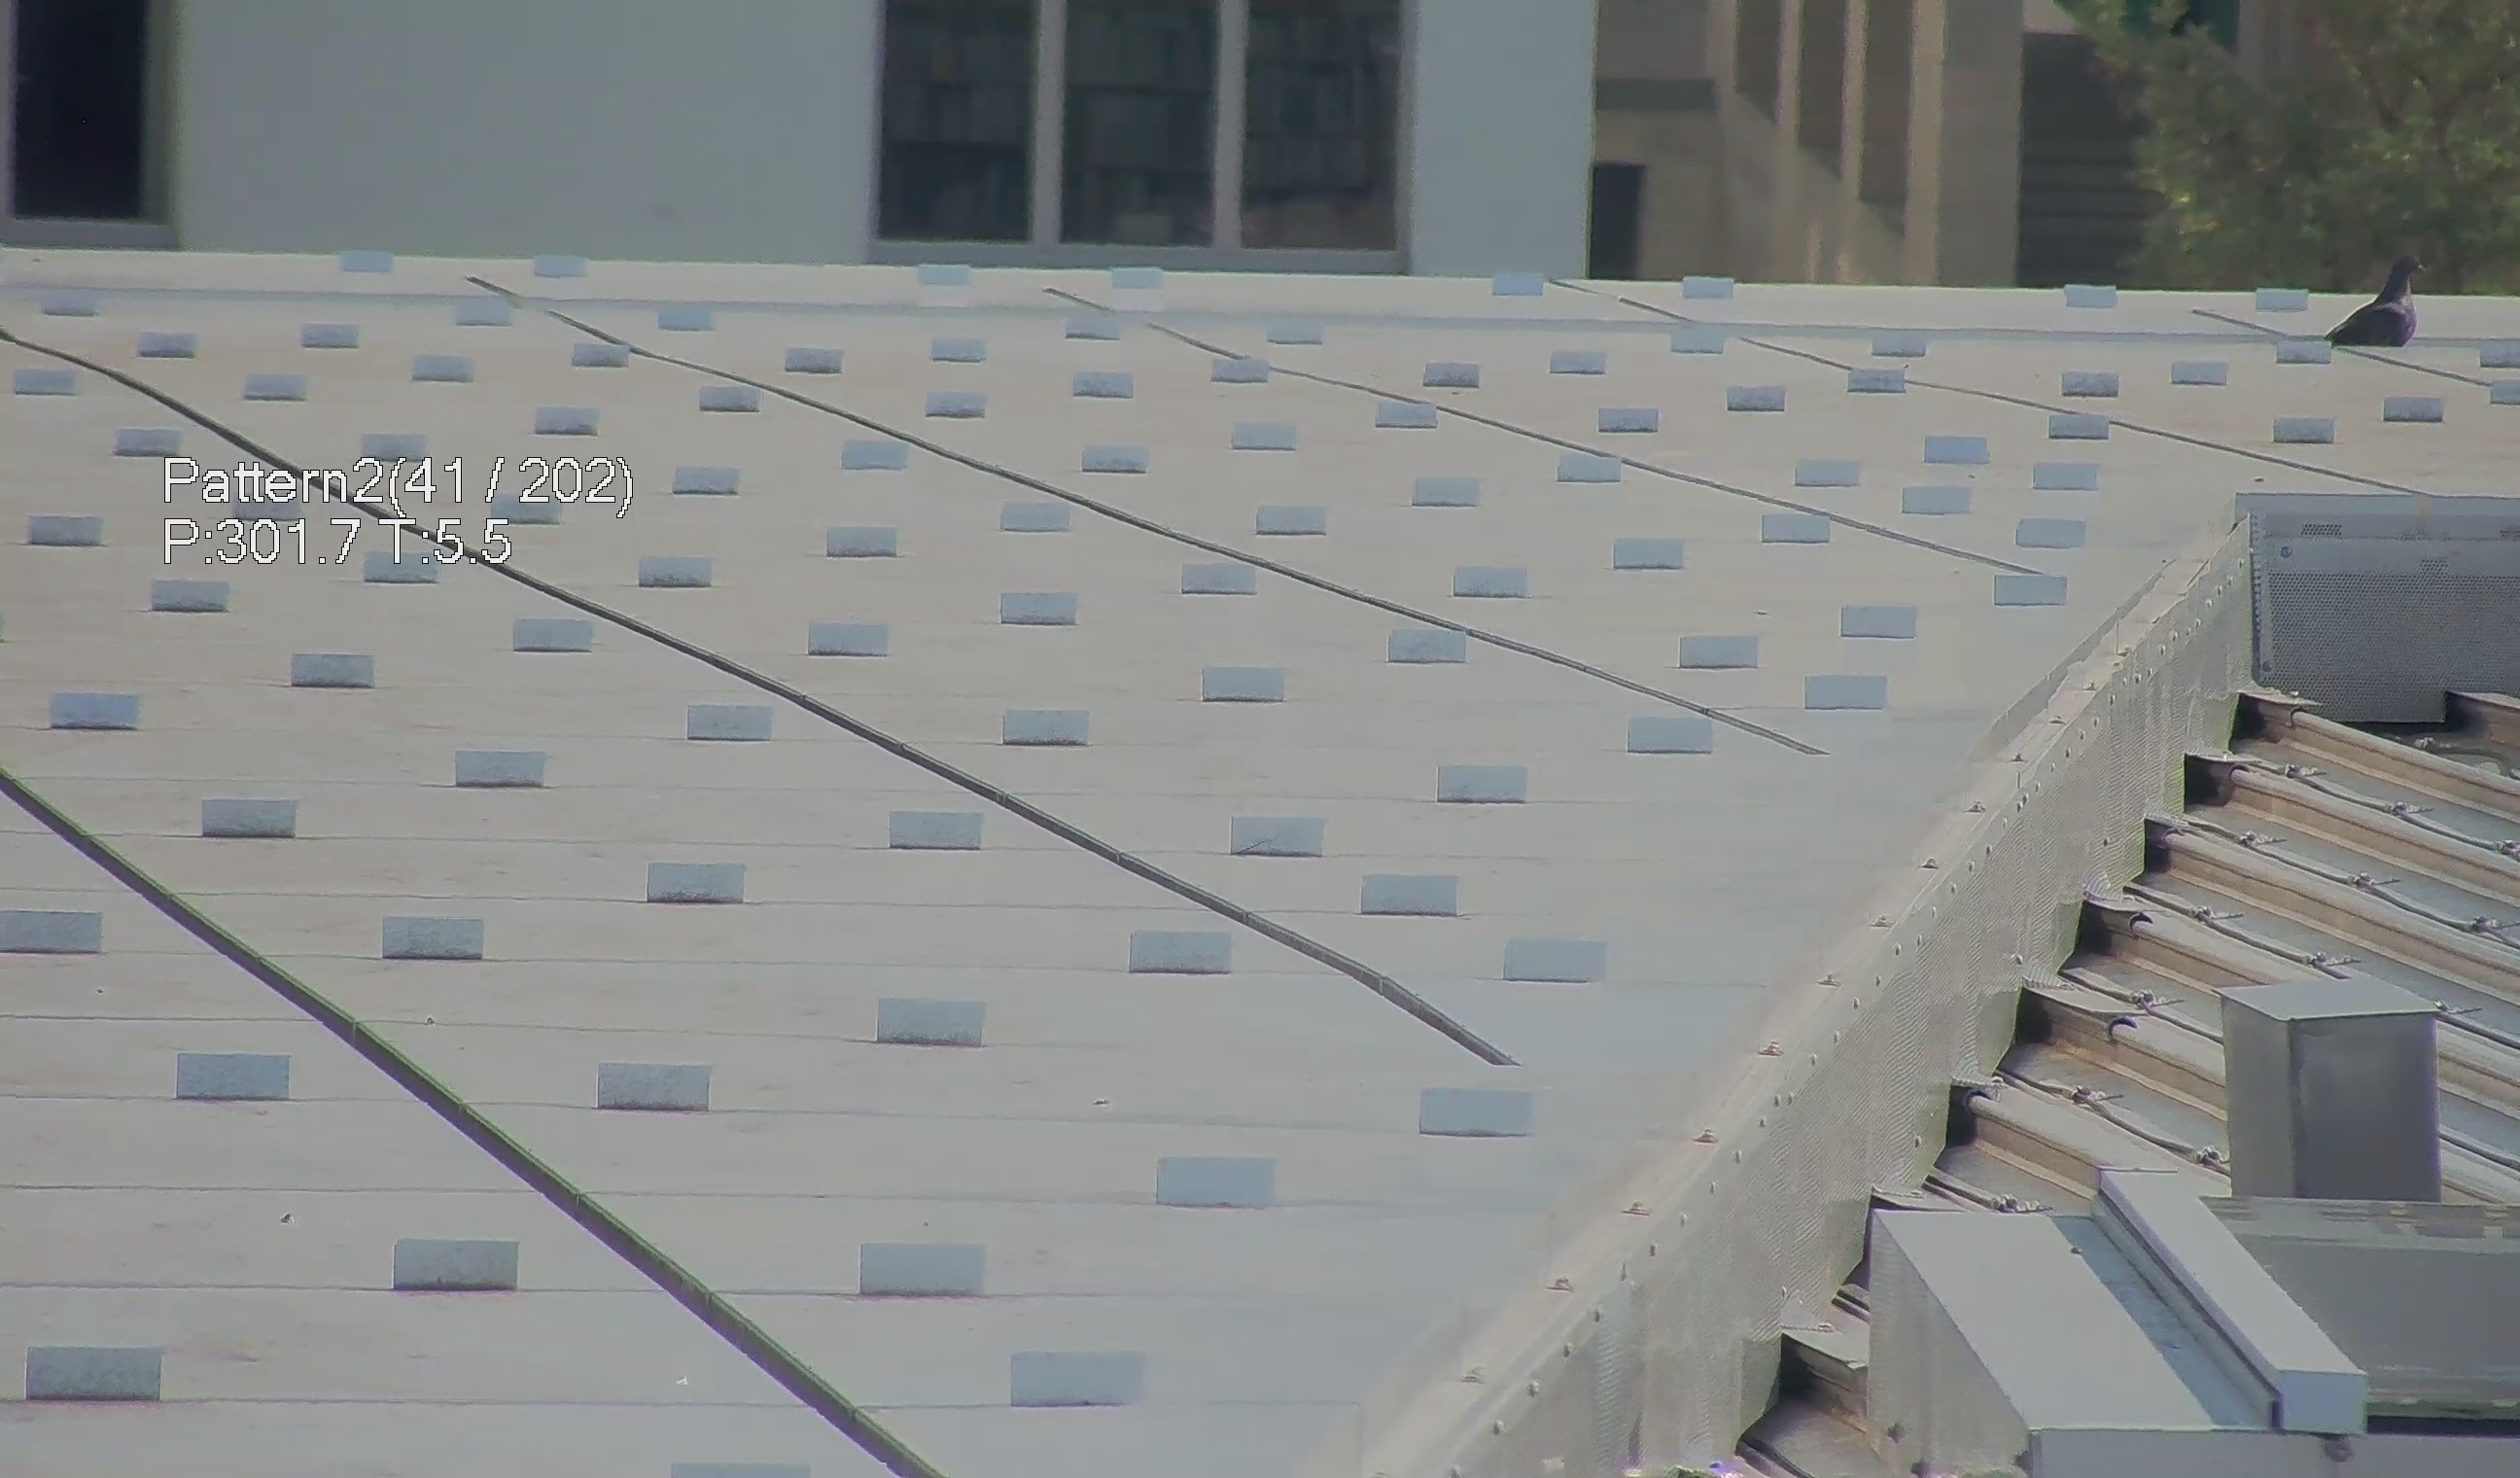Pigeon: (2305, 239, 2441, 364)
